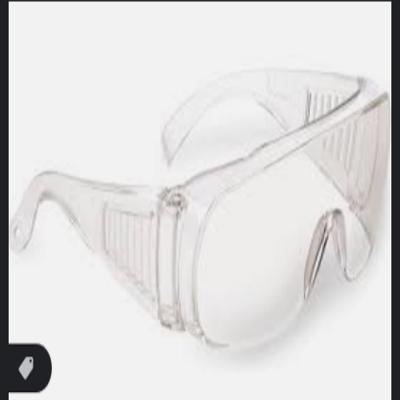glasses: (14, 62, 391, 353)
